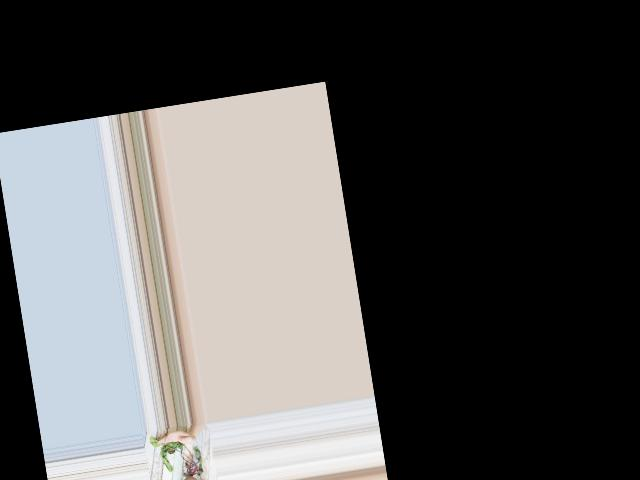beet: (149, 429, 208, 480)
